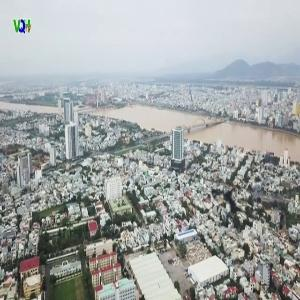drone: (180, 155, 278, 253)
